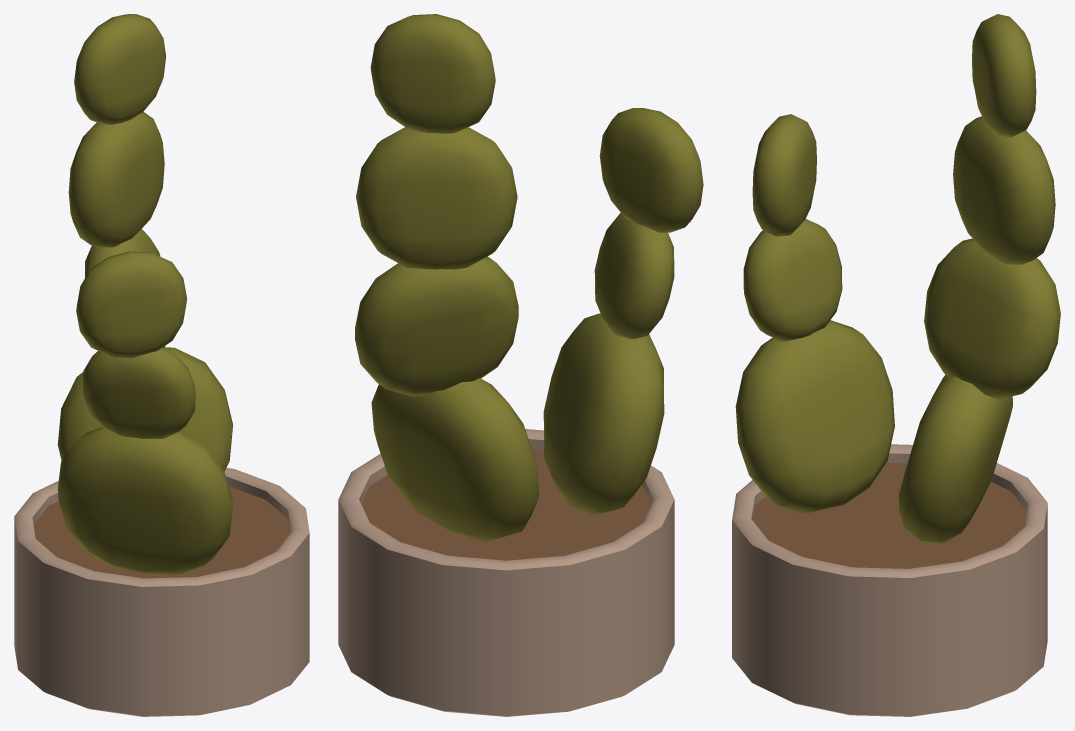
File: Cactus_9.glb
3 views of the same model, side by side, from view 1: azimuth 30°, elevation 25°; view 2: azimuth 150°, elevation 25°; view 3: azimuth 270°, elevation 25° (orthographic). The views are drawn at different scales.
Parts seen in each view (by area): view 1: Cactus_9; view 2: Cactus_9; view 3: Cactus_9.
Boxes of the visible parts, box(x1,y1,x2,y2) form: Cactus_9: box(14, 14, 309, 716); Cactus_9: box(338, 14, 703, 716); Cactus_9: box(732, 14, 1060, 716).
Size of the model in its own units: 0.3101 by 0.6915 by 0.323.
Materials: 1 (1 with a texture image).
